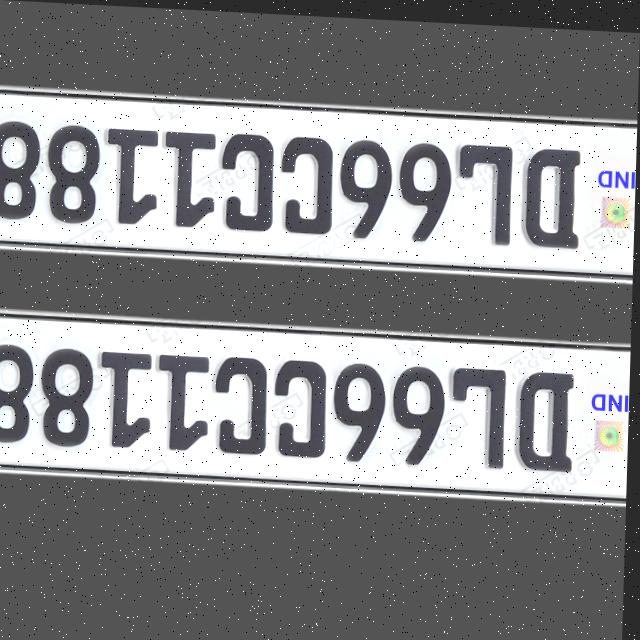plate: (0, 88, 638, 277), (0, 309, 633, 497)
